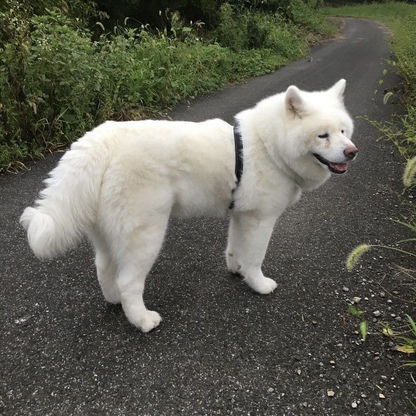akita: (15, 72, 363, 338)
